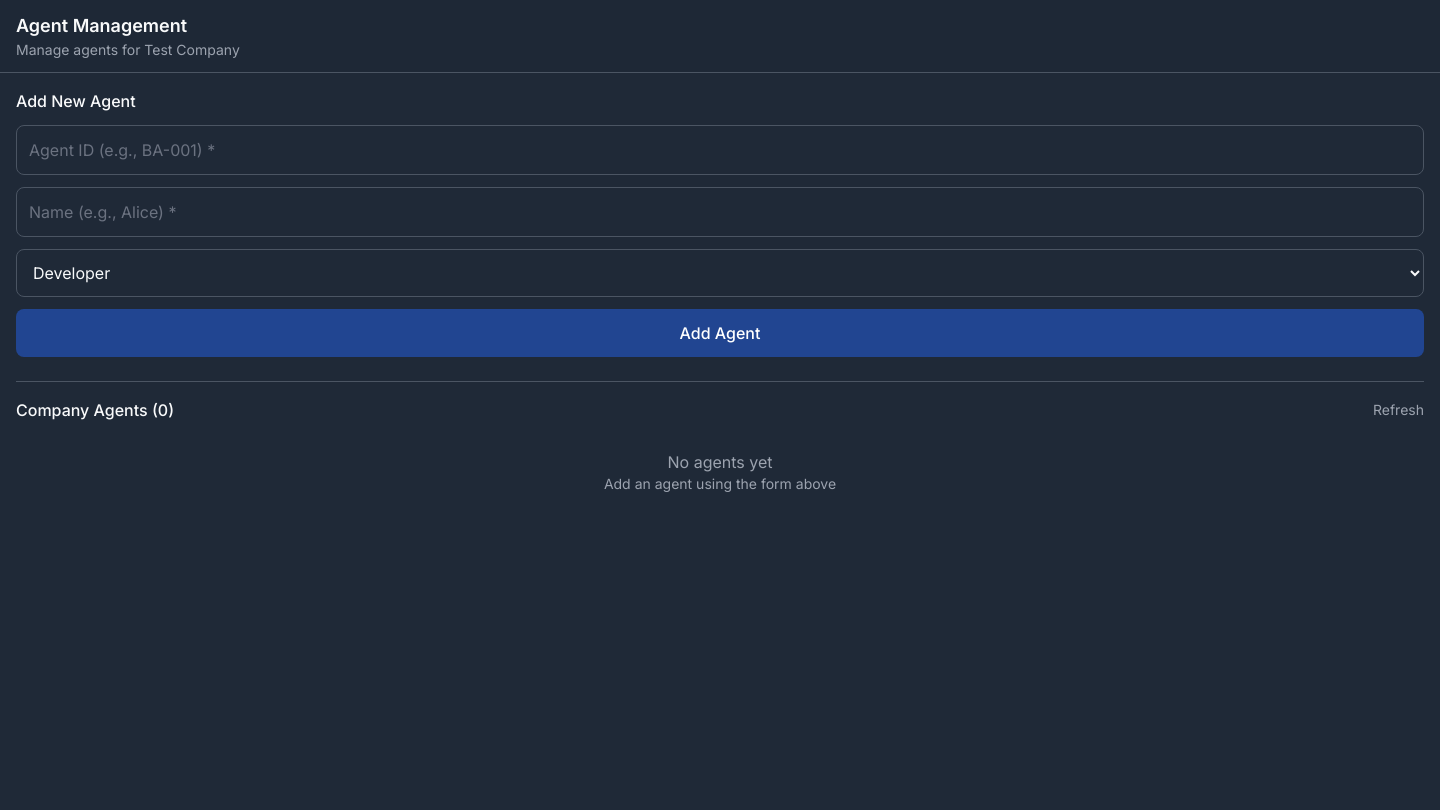
Test case: AgentManagement › AC2: Agent creation › shows success toast after agent creation
The image size is (1440, 810).
Type "DEV-001" into the field with placeholder "Agent ID (e.g., BA-001) *" at (720, 150), box 16,125 -> 1424,175
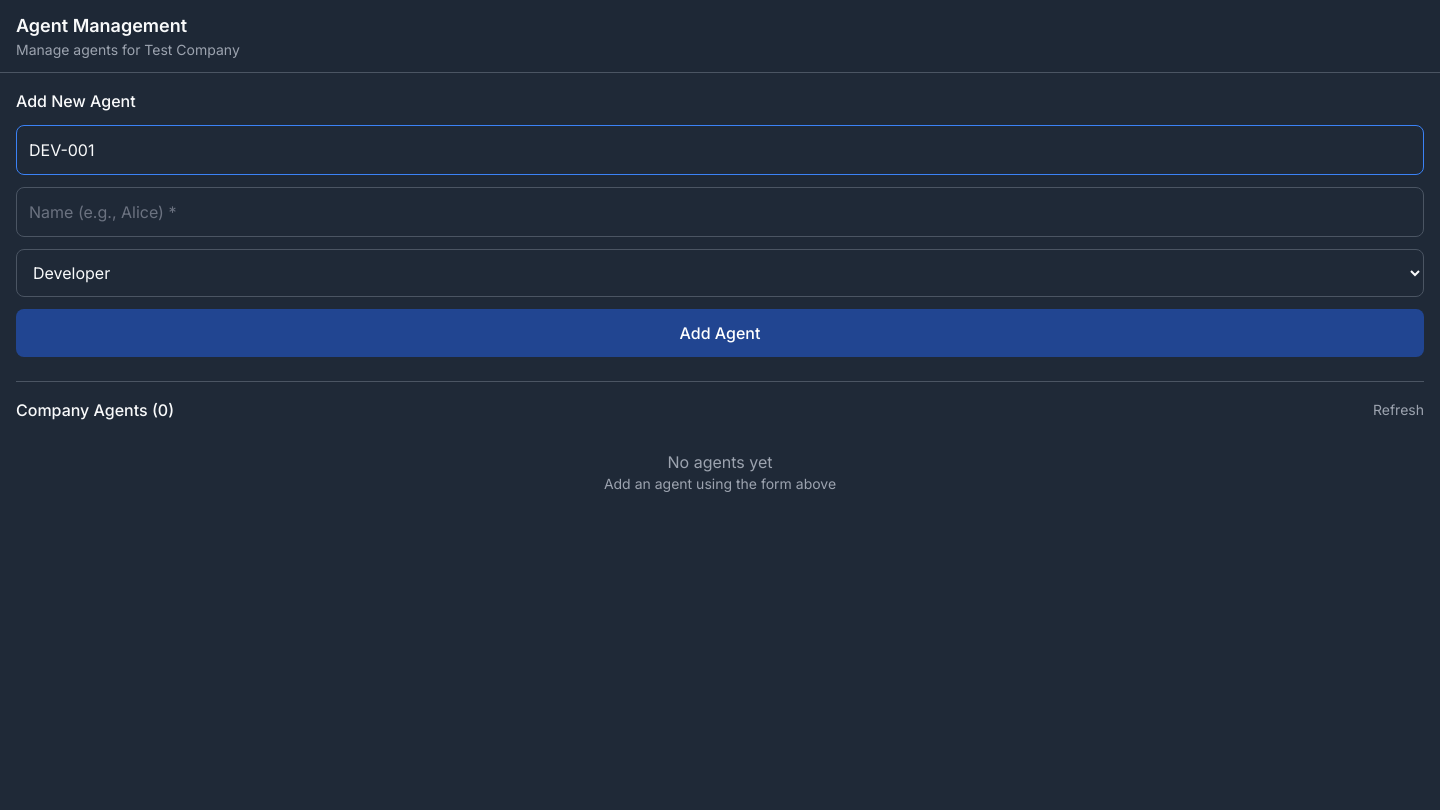
Type "Bob" into the field with placeholder "Name (e.g., Alice) *" at (720, 212), box 16,187 -> 1424,237
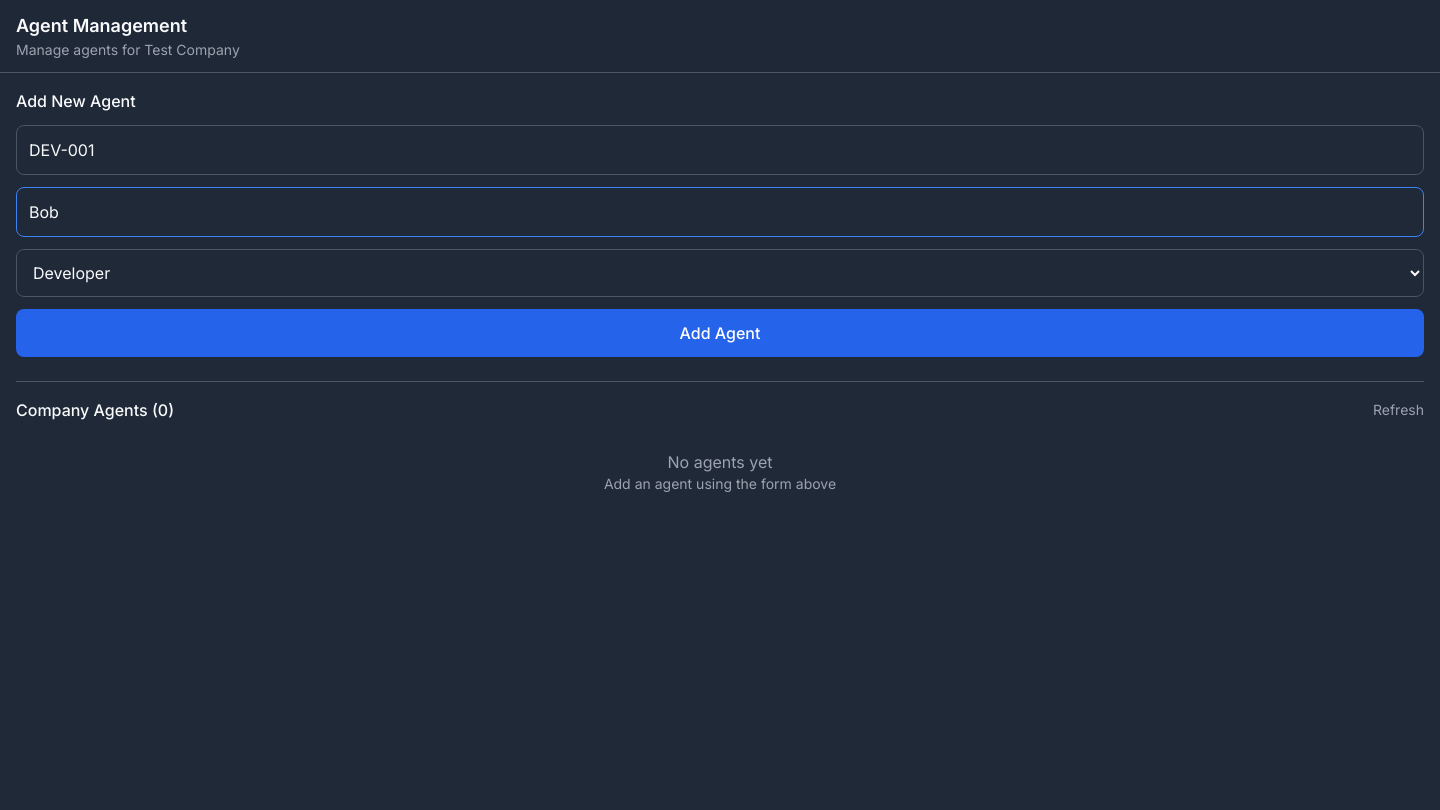
Click the button "Add Agent" at (720, 333), box 16,309 -> 1424,357
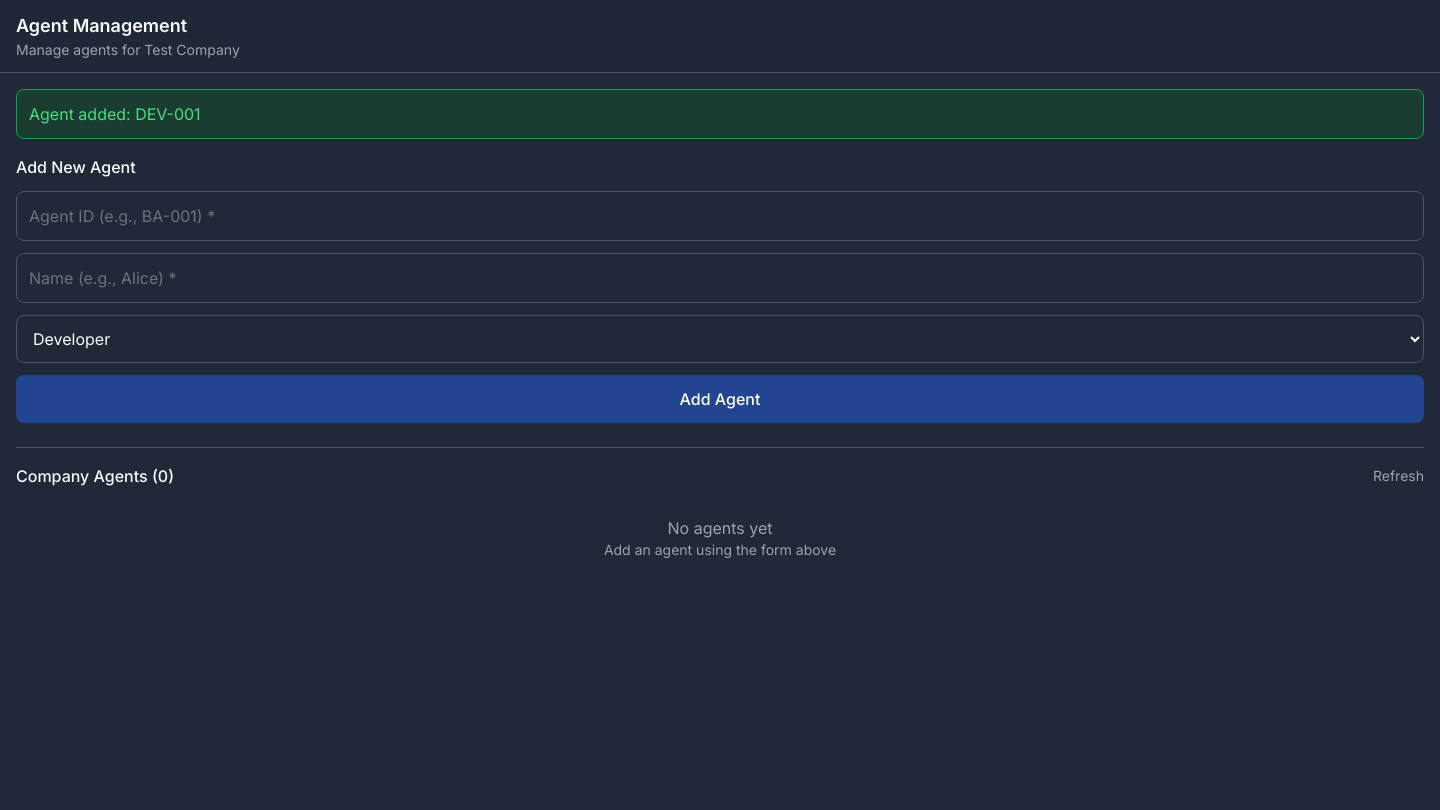
Check: the text "Agent added: DEV-001" is shown, box 16,89 -> 1424,139
